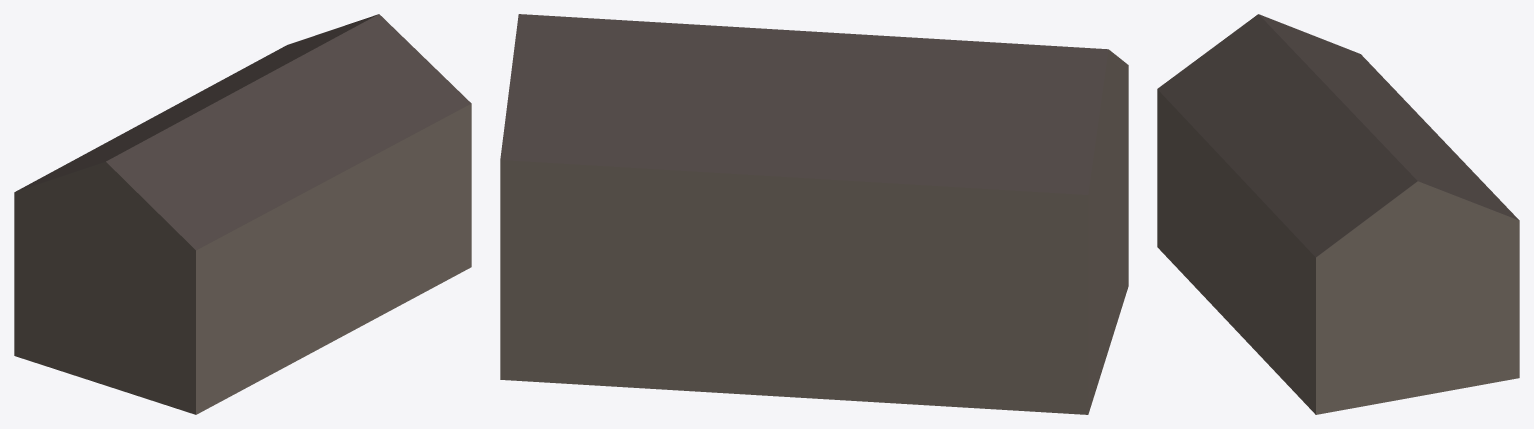
3 renders of one model, left to right at view 1: azimuth 30°, elevation 25°; view 2: azimuth 150°, elevation 25°; view 3: azimuth 270°, elevation 25°, orthographic. The views are drawn at different scales.
Visible parts, largest first — view 1: HP-w776800983; view 2: HP-w776800983; view 3: HP-w776800983.
Part boxes in pixels (x1,y1,x2,y2): HP-w776800983: (14,14,471,414); HP-w776800983: (500,14,1128,414); HP-w776800983: (1157,14,1519,414).
Bounding box in the file's own units: 24.96 × 12.32 × 18.79.
